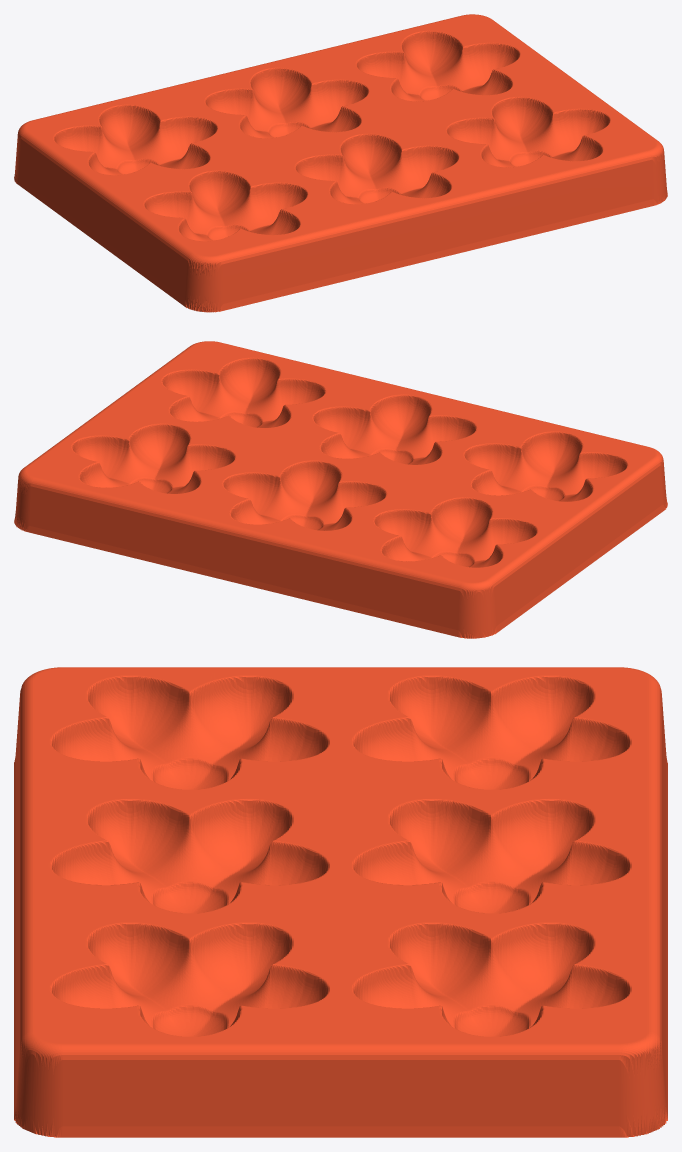
The model's file is mold.glb.
3 renders of one model, top to bottom at view 1: azimuth 30°, elevation 25°; view 2: azimuth 150°, elevation 25°; view 3: azimuth 270°, elevation 25°, orthographic. The views are drawn at different scales.
Visible parts, largest first — view 1: geometry_0; view 2: geometry_0; view 3: geometry_0.
Boxes of the visible parts, bbox=[...] form: geometry_0: bbox=[14, 14, 667, 312]; geometry_0: bbox=[14, 341, 667, 638]; geometry_0: bbox=[14, 667, 667, 1137].
Bounding box in the file's own units: 0.1717 × 0.0175 × 0.1211.
